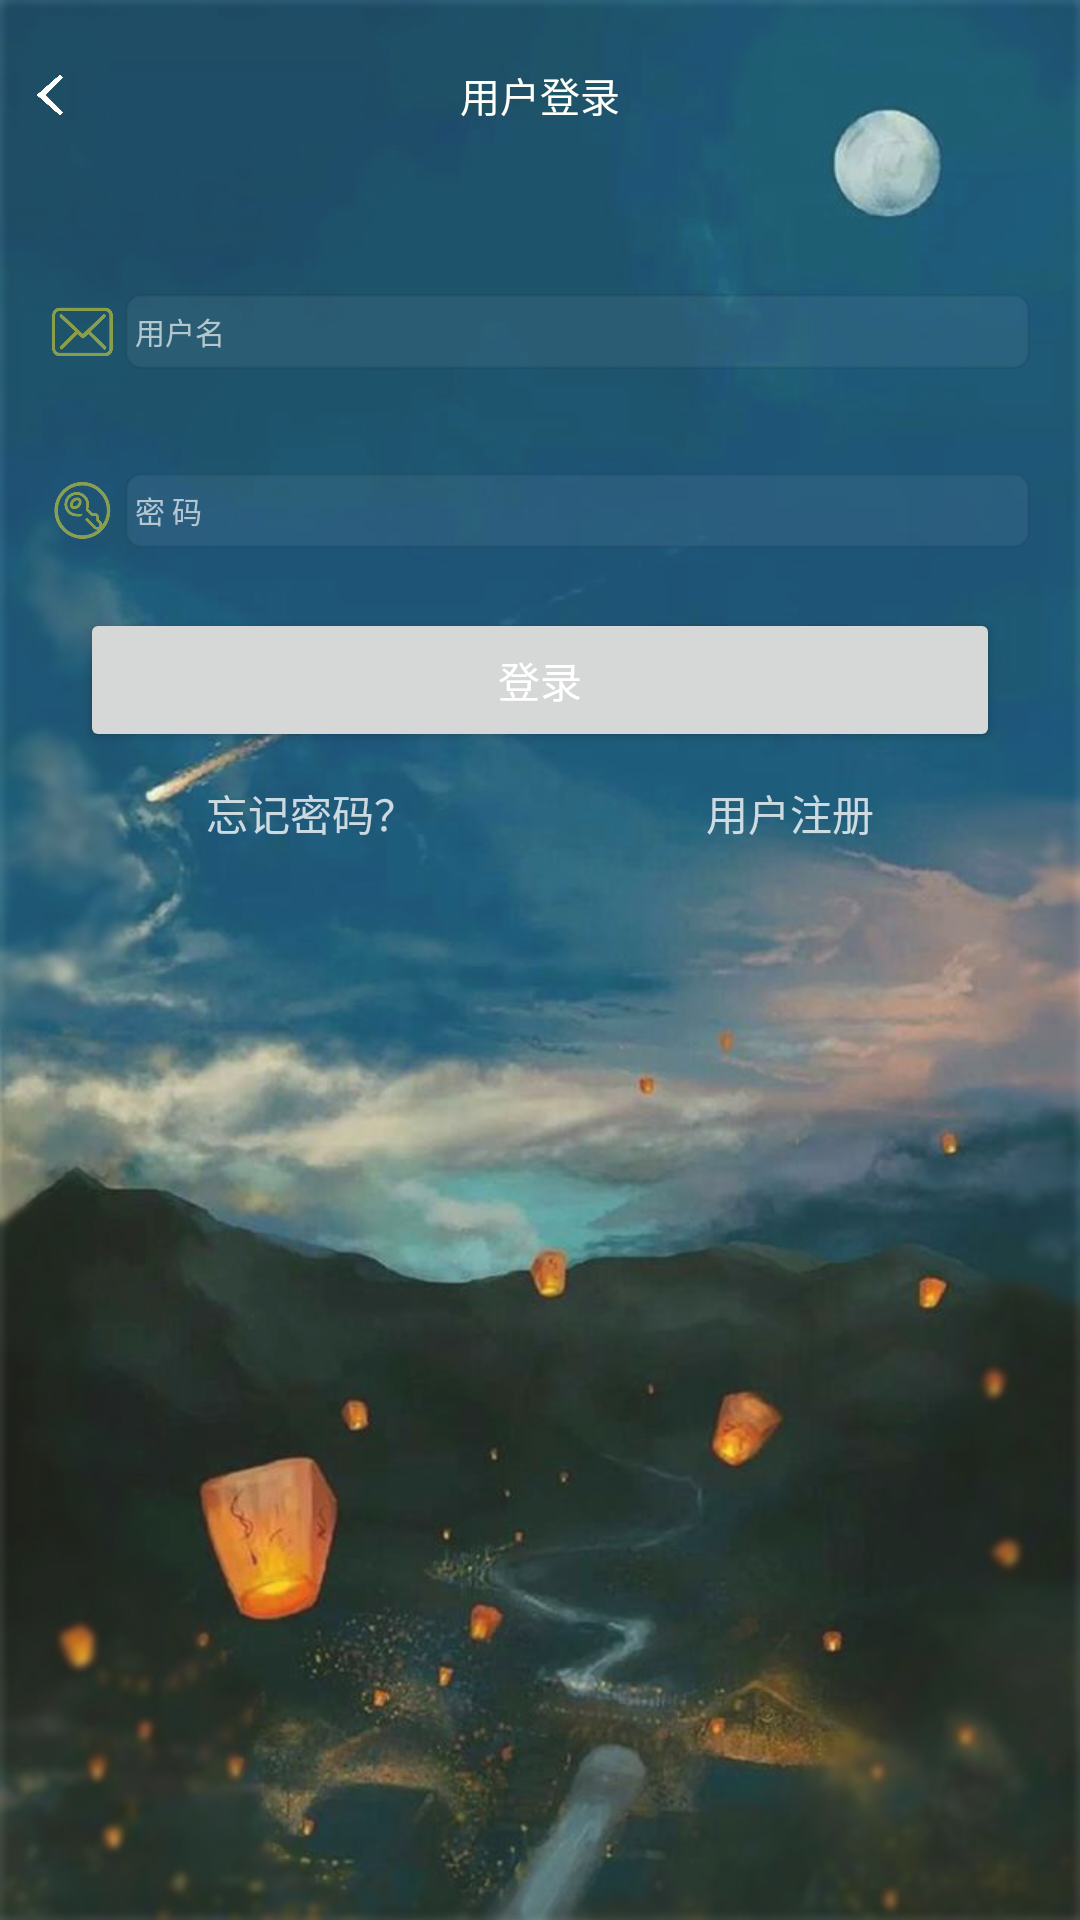

Where icons sit on this 1080px×1920px app screen, as (x1, y1, x2, y2):
back: (37, 75, 63, 115)
